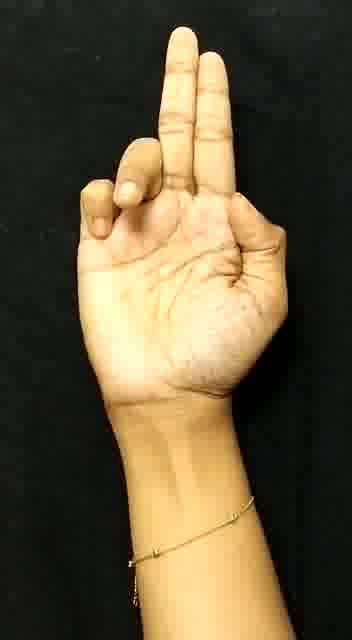ardhpataka: (50, 36, 312, 447)
